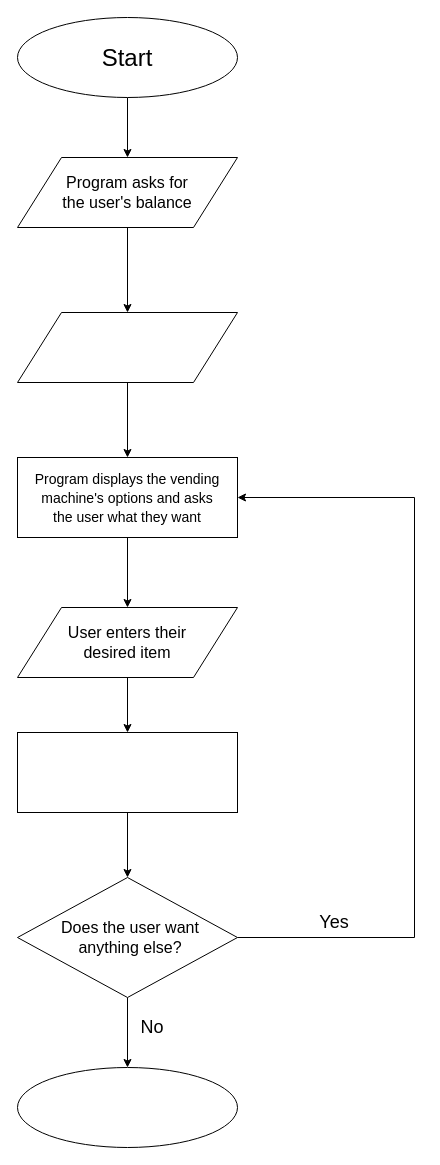
Some shapes in this 440 by 1165 pixel diagram are drawn without their labels. Each missing label, with the box of its shape:
End: (16, 1066, 238, 1148)
Program displays the user's balance: (16, 312, 238, 382)
The item's price is deducted from the user's balance: (16, 732, 238, 812)
